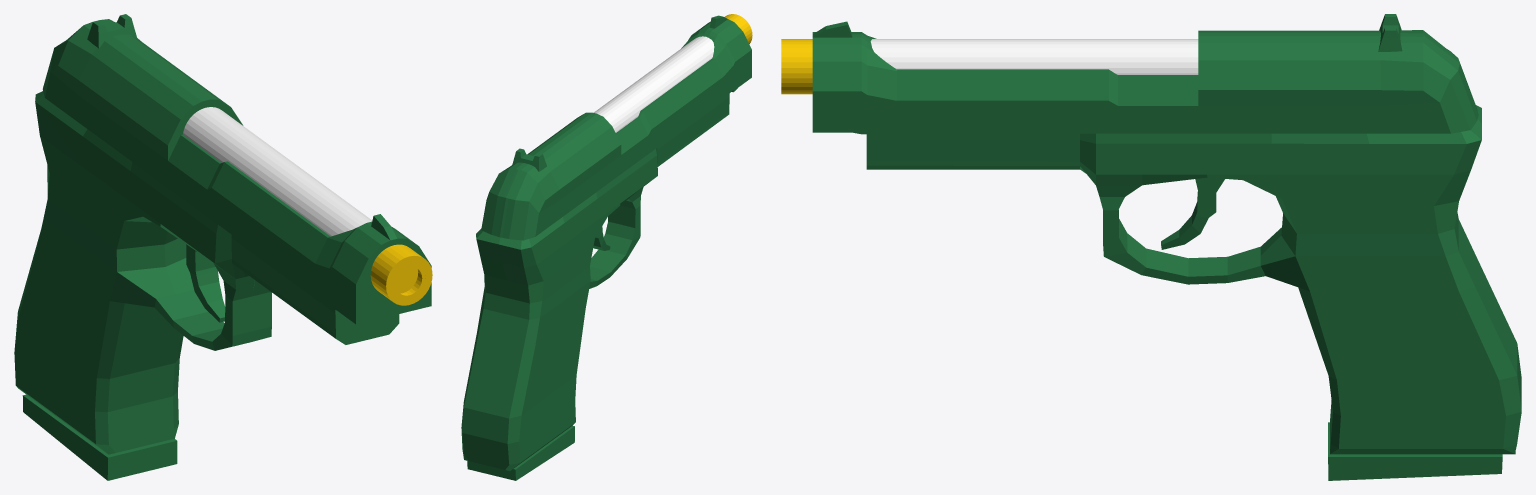
Rendered from nerf gun.fbx.
3 views of the same model, side by side, from view 1: azimuth 30°, elevation 25°; view 2: azimuth 150°, elevation 25°; view 3: azimuth 270°, elevation 25° (orthographic). The views are drawn at different scales.
Visible parts, largest first — view 1: Pistol, Pistol_Barrel_0.001; view 2: Pistol, Pistol_Barrel_0.001; view 3: Pistol, Pistol_Barrel_0.001.
Part boxes in pixels (<box>): Pistol: <box>14,14,431,480</box>; Pistol_Barrel_0.001: <box>370,244,432,305</box>; Pistol: <box>461,15,751,480</box>; Pistol_Barrel_0.001: <box>724,14,752,43</box>; Pistol: <box>812,14,1521,480</box>; Pistol_Barrel_0.001: <box>781,39,812,94</box>.
Size of the model in its own units: 66.67 by 328 by 498.
